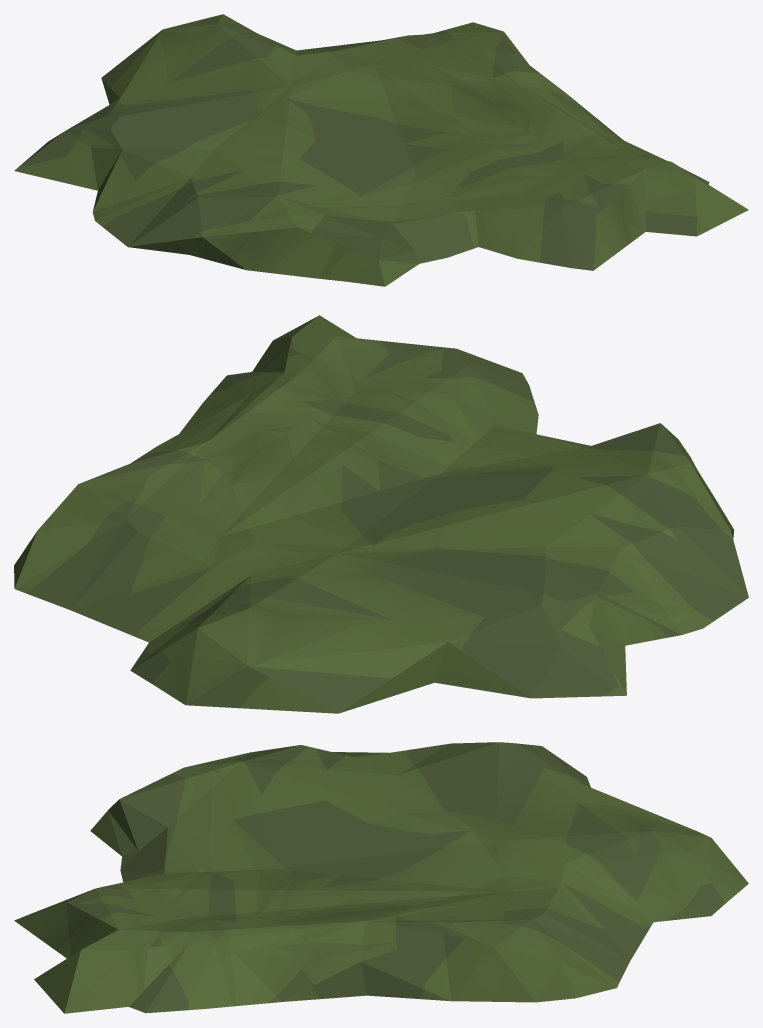
Rendered from synty-terrain-swamp-growth-02.gltf.
The picture shows the model from 3 angles, top to bottom: view 1: azimuth 30°, elevation 25°; view 2: azimuth 150°, elevation 25°; view 3: azimuth 270°, elevation 25°; orthographic projection. The views are drawn at different scales.
Parts seen in each view (by area): view 1: SM_Terrain_Swamp_Growth_02; view 2: SM_Terrain_Swamp_Growth_02; view 3: SM_Terrain_Swamp_Growth_02.
Boxes of the visible parts, <box> form: SM_Terrain_Swamp_Growth_02: <box>14,14,748,286</box>; SM_Terrain_Swamp_Growth_02: <box>14,315,748,713</box>; SM_Terrain_Swamp_Growth_02: <box>14,742,748,1013</box>.
Size of the model in its own units: 1.25 by 0.1116 by 1.46.
1 material, 1 textured.
